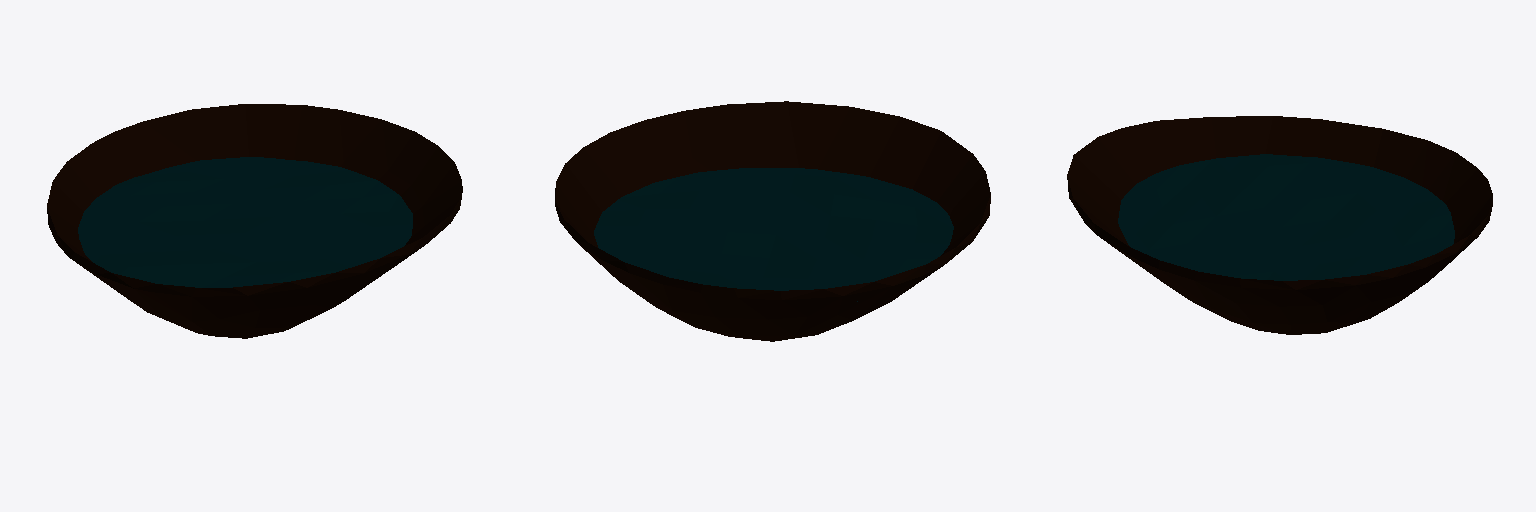
Rendered from BowlOfWater.obj.
The picture shows the model from 3 angles: view 1: azimuth 30°, elevation 25°; view 2: azimuth 150°, elevation 25°; view 3: azimuth 270°, elevation 25°; orthographic projection.
Parts seen in each view (by area): view 1: Circle, Circle.001; view 2: Circle, Circle.001; view 3: Circle, Circle.001.
Boxes of the visible parts, x1,y1,x2,y2 form: Circle: [47, 104, 462, 338]; Circle.001: [78, 157, 412, 287]; Circle: [555, 101, 990, 341]; Circle.001: [594, 168, 953, 301]; Circle: [1067, 116, 1492, 334]; Circle.001: [1118, 154, 1454, 280].
Bounding box in the file's own units: 2.01 × 0.7152 × 2.01.